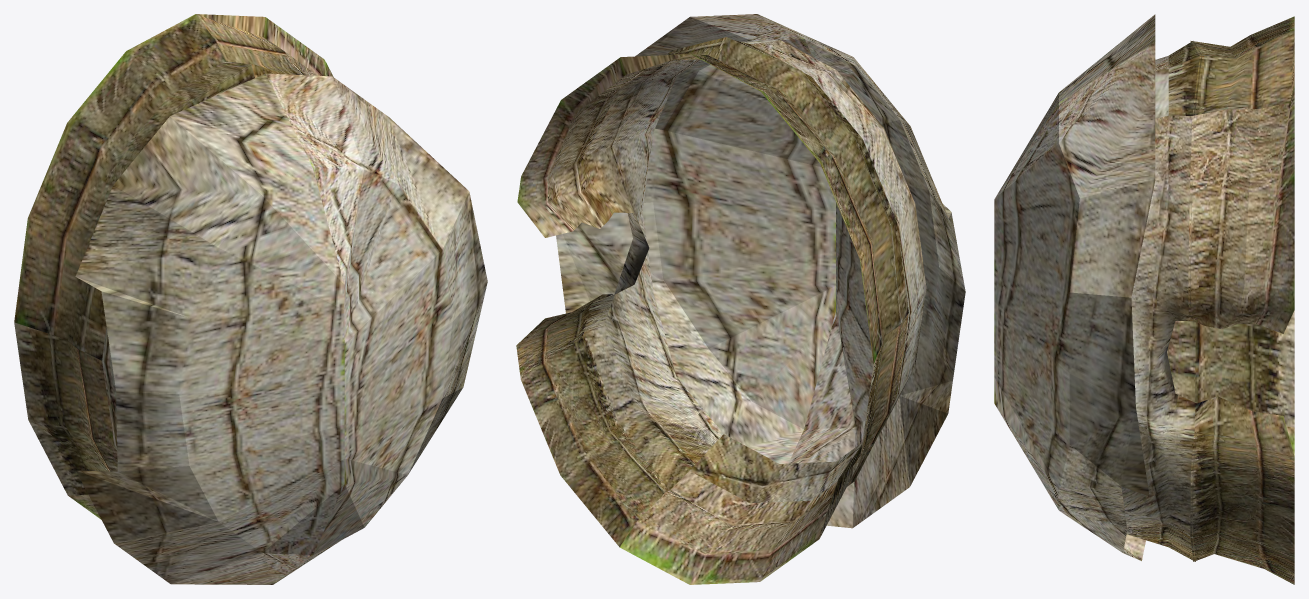
The model's file is hut.obj.
3 renders of one model, left to right at view 1: azimuth 30°, elevation 25°; view 2: azimuth 150°, elevation 25°; view 3: azimuth 270°, elevation 25°, orthographic. The views are drawn at different scales.
Parts seen in each view (by area): view 1: Sphere.004, Sphere.007, Sphere.008, Sphere.006, Sphere.002, Sphere.005, Sphere.001, Sphere, Sphere.003; view 2: Sphere.003, Sphere.001, Sphere.005, Sphere.002, Sphere, Sphere.008, Sphere.006, Sphere.007, Sphere.004; view 3: Sphere.001, Sphere.006, Sphere.003, Sphere.002, Sphere.005, Sphere, Sphere.004.
Boxes of the visible parts, x1,y1,x2,y2 form: Sphere.004: (75,73,344,344); Sphere.007: (101,291,344,471); Sphere.008: (76,424,344,584); Sphere.006: (266,73,469,343); Sphere.002: (14,14,333,519); Sphere.005: (344,192,487,424); Sphere.001: (53,43,316,471); Sphere: (276,387,463,582); Sphere.003: (77,64,285,471); Sphere.003: (585,38,926,525); Sphere.001: (549,37,900,555); Sphere.005: (556,128,835,313); Sphere.002: (516,54,882,584); Sphere: (652,251,835,463); Sphere.008: (788,252,952,528); Sphere.006: (635,14,821,166); Sphere.007: (836,186,965,379); Sphere.004: (761,16,951,218); Sphere.001: (1188,35,1264,568); Sphere.006: (994,42,1155,297); Sphere.003: (1121,41,1202,561); Sphere.002: (1238,16,1294,584); Sphere.005: (994,260,1149,496); Sphere: (994,343,1140,560); Sphere.004: (995,14,1155,197).
Bounding box in the file's own units: 3.9 × 4.88 × 2.46.
